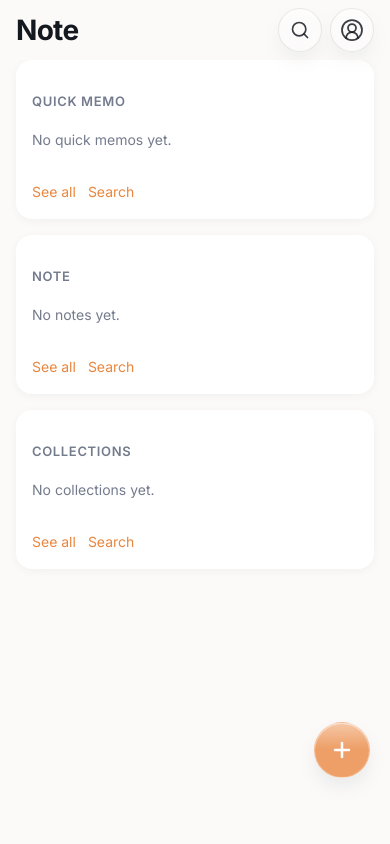
Phase 9 Notes V3 UI › 6. creates a Note
What coordinates should you click on to do the following:
click the button with test id "notes-add-open"
I would click on:
 (342, 750)
Its box is [314,722,370,778].
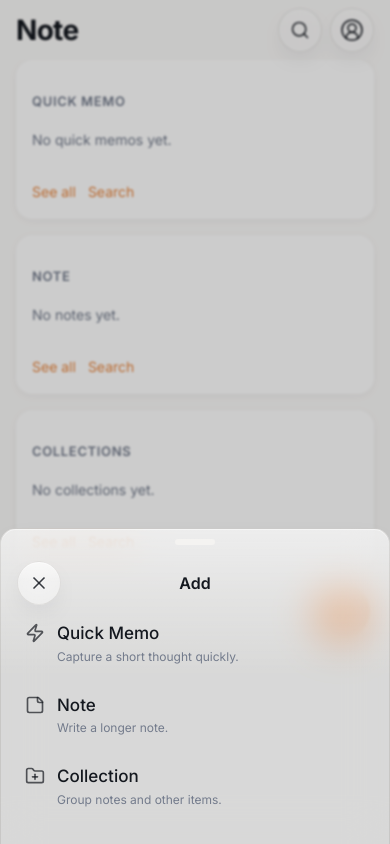
What coordinates should you click on to do the following:
click the button with test id "notes-add-note"
I would click on:
 (76, 704)
Its box is [13,680,377,748].
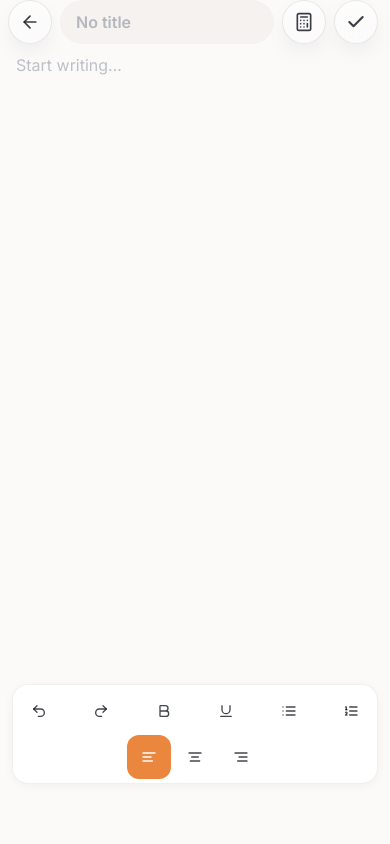
Expected: the element with test id "note-detail" is shown
